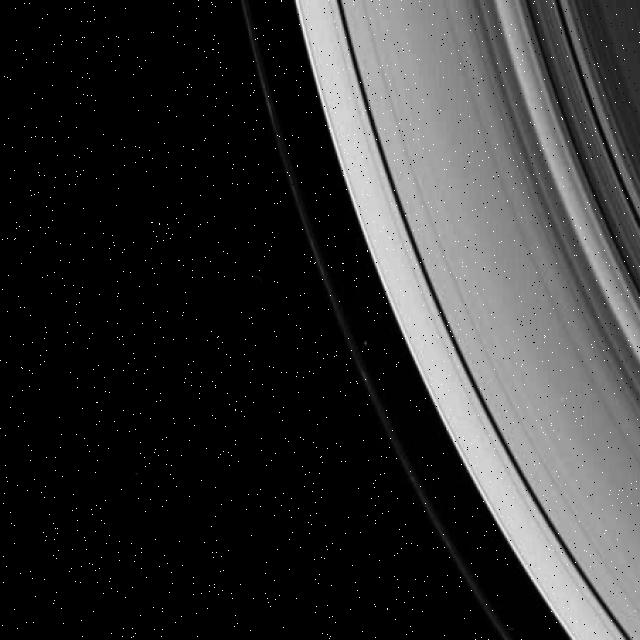Saturn: (231, 0, 640, 640)
